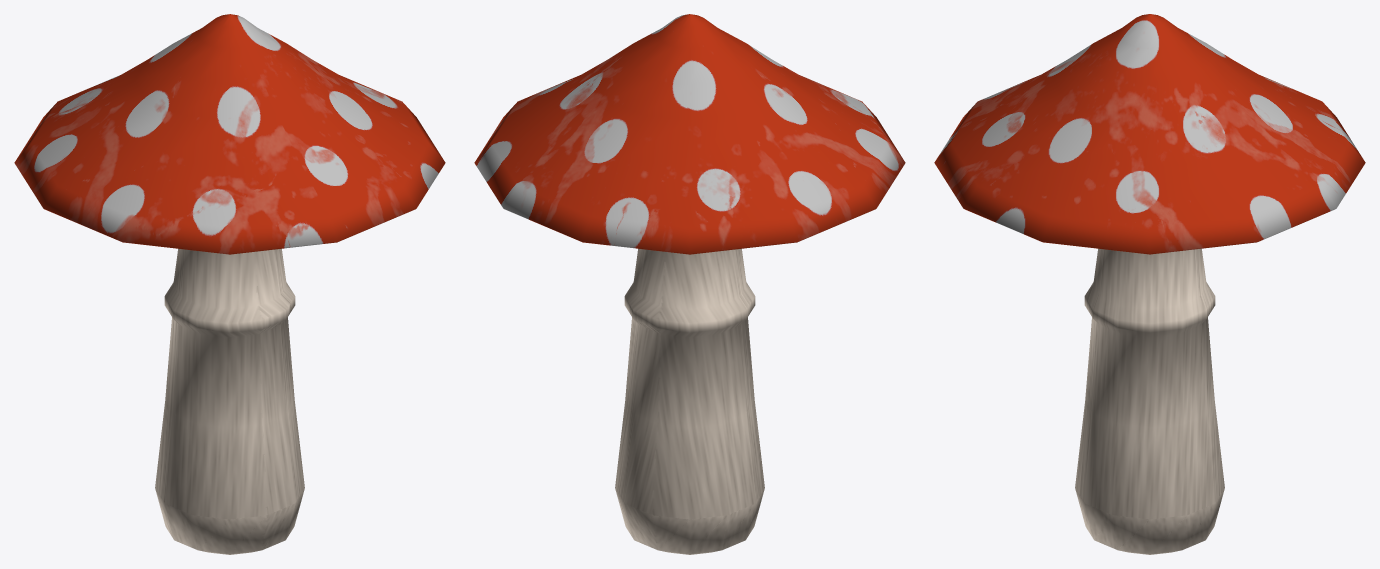
The model's file is Mushroom1.fbx.
The picture shows the model from 3 angles, left to right: view 1: azimuth 30°, elevation 25°; view 2: azimuth 150°, elevation 25°; view 3: azimuth 270°, elevation 25°; orthographic projection.
Visible parts, largest first — view 1: Cylinder001; view 2: Cylinder001; view 3: Cylinder001.
Part boxes in pixels (x1,y1,x2,y2): Cylinder001: (14,14,445,554); Cylinder001: (474,14,905,554); Cylinder001: (934,14,1365,554).
Bounding box in the file's own units: 53.62 × 71.68 × 53.62.
Materials: 1 (1 with a texture image).
